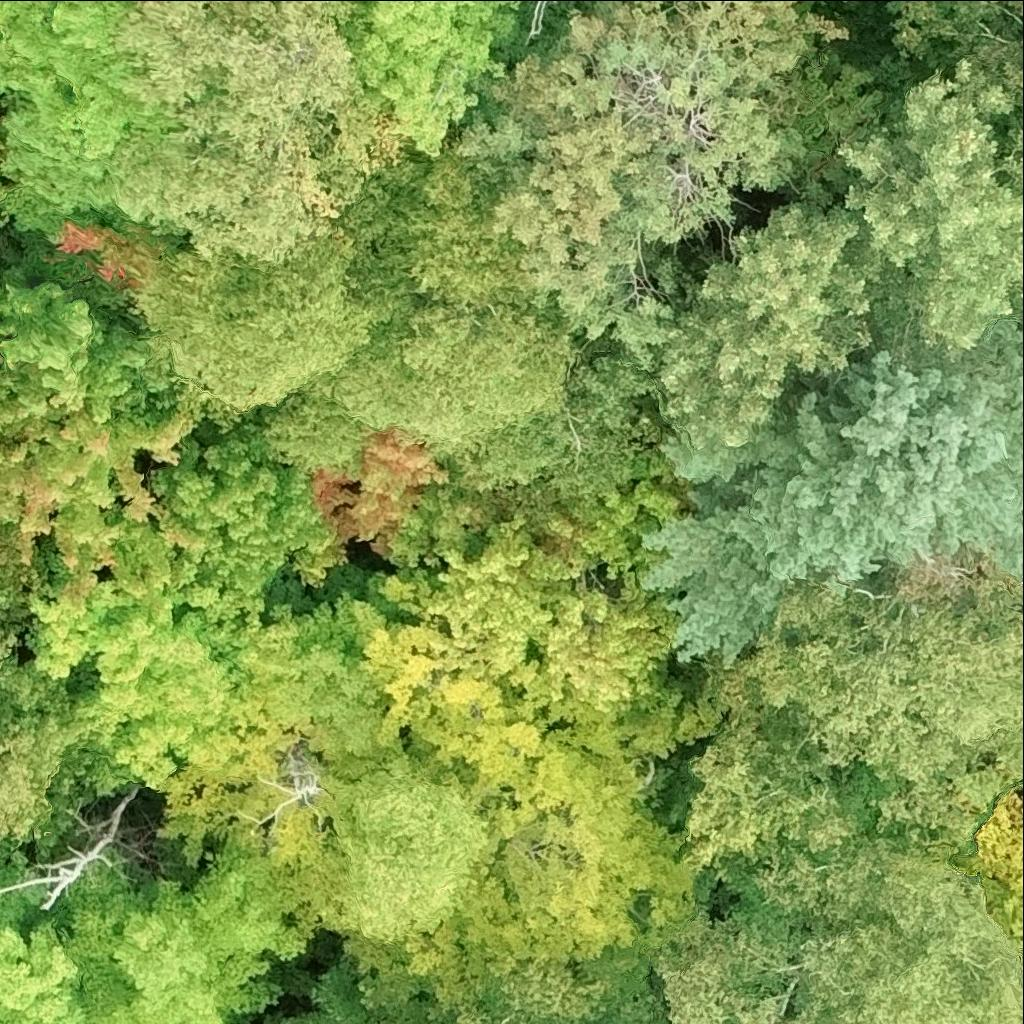crown: (456, 0, 848, 366), (644, 298, 1023, 672), (733, 562, 1023, 858), (116, 0, 413, 262), (22, 577, 392, 787), (261, 299, 659, 494), (137, 169, 422, 425), (0, 281, 208, 612), (657, 837, 1023, 1023), (428, 472, 690, 713), (657, 182, 886, 446), (840, 59, 1023, 353), (685, 666, 876, 904), (0, 0, 186, 244), (70, 853, 306, 1023), (148, 425, 347, 623), (308, 926, 714, 1023), (313, 761, 492, 940), (380, 139, 562, 310), (330, 0, 522, 157), (893, 0, 1023, 149), (312, 429, 453, 559), (0, 787, 137, 909), (957, 782, 1023, 971), (0, 719, 94, 838), (0, 923, 85, 1023), (0, 381, 26, 525), (530, 0, 558, 36), (279, 1011, 327, 1023), (795, 0, 827, 13), (0, 181, 12, 207), (0, 133, 3, 152)
